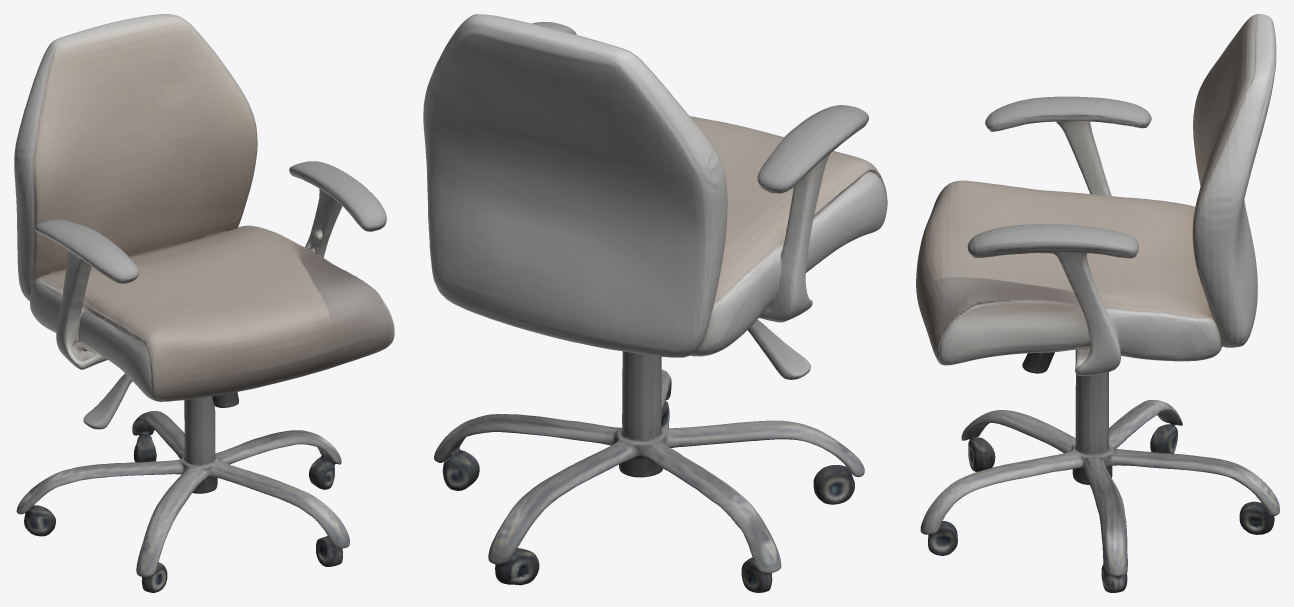
File: room_scan_3e824cff-f521-461e-bc44-dc5e98302fdd_scene_chair_001_chair.glb
3 renders of one model, left to right at view 1: azimuth 30°, elevation 25°; view 2: azimuth 150°, elevation 25°; view 3: azimuth 270°, elevation 25°, orthographic. The views are drawn at different scales.
Parts seen in each view (by area): view 1: world; view 2: world; view 3: world.
Boxes of the visible parts, box(x1,y1,x2,y2) form: world: box(14, 14, 394, 592); world: box(423, 14, 887, 592); world: box(916, 14, 1279, 592).
Bounding box in the file's own units: 0.6982 × 0.9998 × 0.6933.
